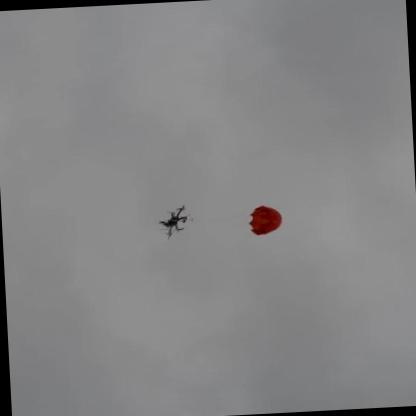drone: (147, 204, 196, 246)
